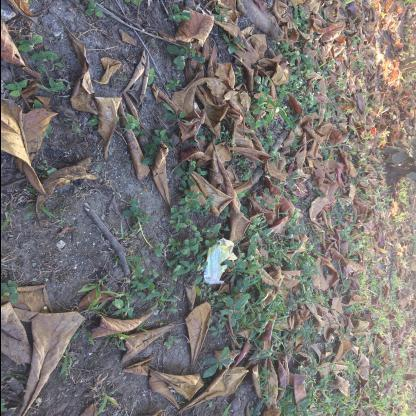plastik: (203, 239, 234, 286)
